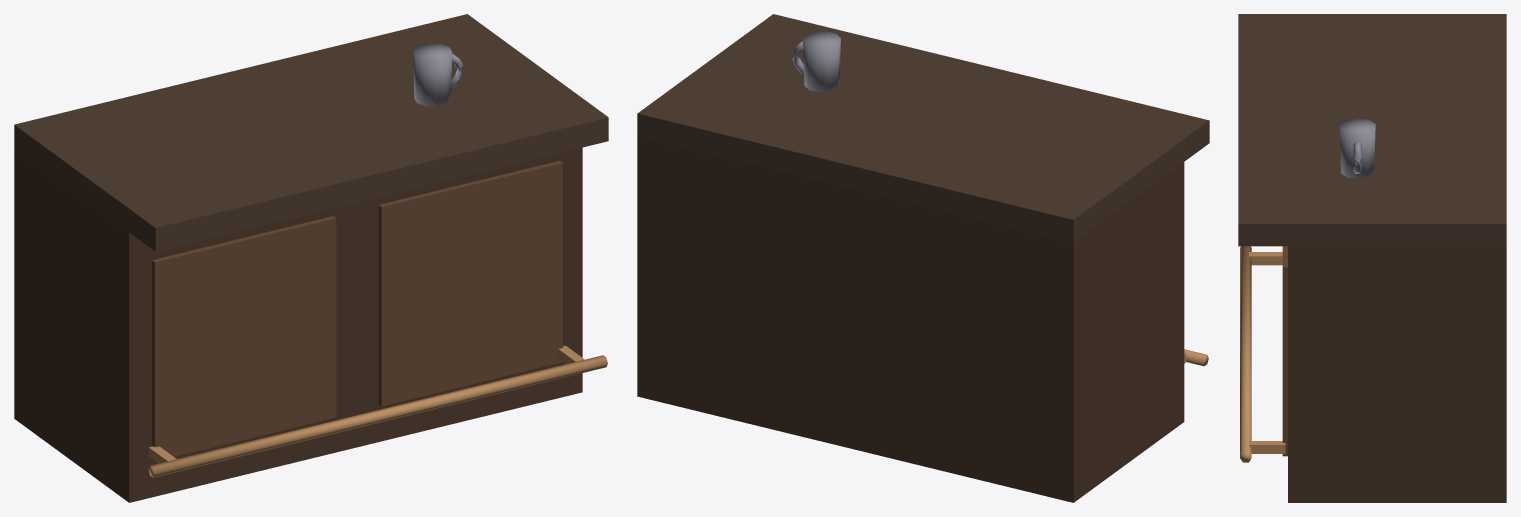
The model's file is bar_counter.glb.
3 views of the same model, side by side, from view 1: azimuth 30°, elevation 25°; view 2: azimuth 150°, elevation 25°; view 3: azimuth 270°, elevation 25° (orthographic). The views are drawn at different scales.
Parts seen in each view (by area): view 1: bar_counter; view 2: bar_counter; view 3: bar_counter.
Part boxes in pixels (left/top/right/bottom): bar_counter: left=14, top=14, right=608, bottom=502; bar_counter: left=637, top=14, right=1209, bottom=502; bar_counter: left=1238, top=14, right=1506, bottom=502.
Bounding box in the file's own units: 1 × 0.72 × 0.54.
